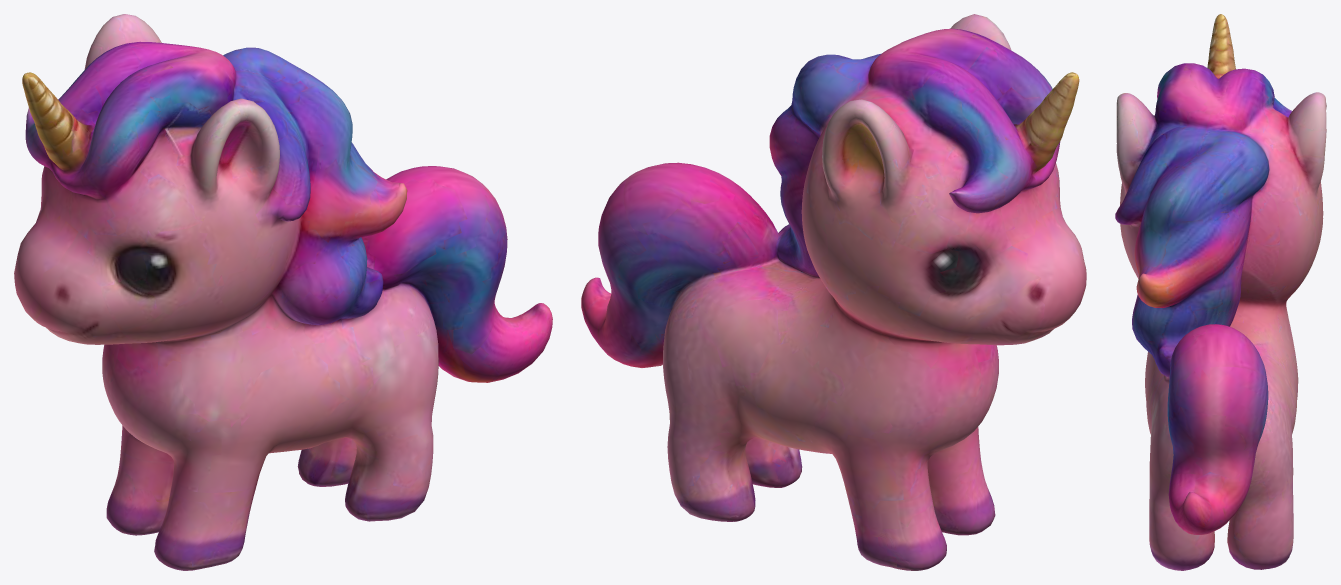
3 views of the same model, side by side, from view 1: azimuth 30°, elevation 25°; view 2: azimuth 150°, elevation 25°; view 3: azimuth 270°, elevation 25° (orthographic). The views are drawn at different scales.
Size of the model in its own units: 1.99 by 1.88 by 0.8671.
1 material, 1 textured.
